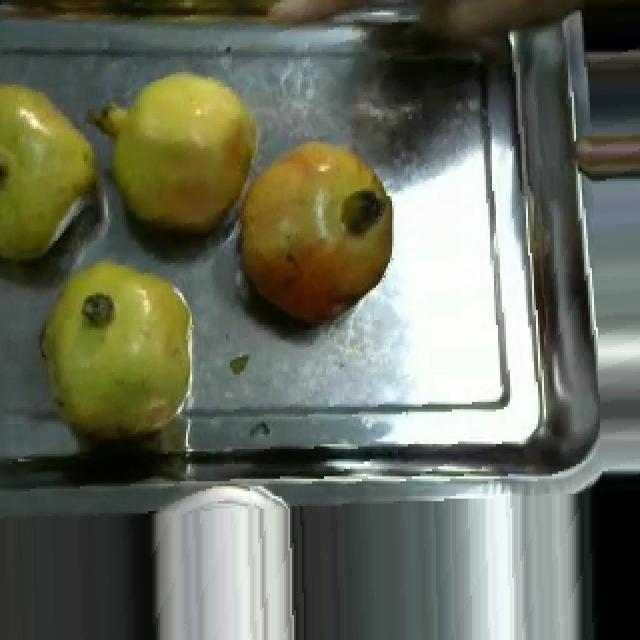fruit: (26, 243, 210, 452), (222, 129, 406, 337), (78, 60, 278, 248), (0, 64, 114, 276)
